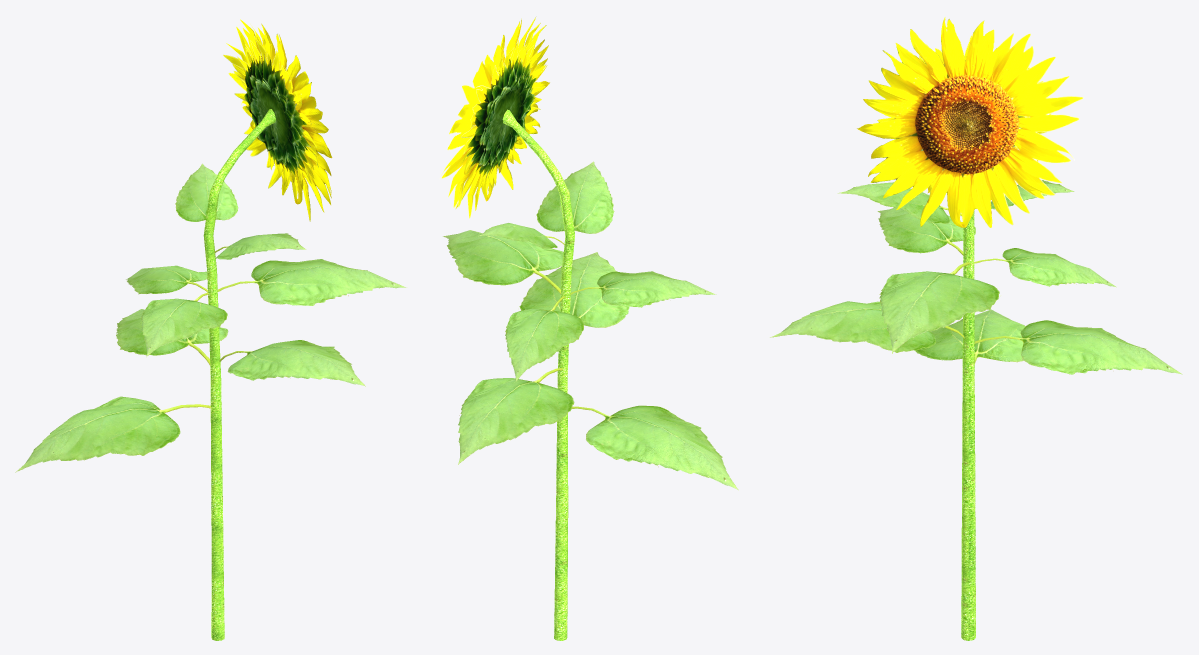
Rendered from sunflower.glb.
The picture shows the model from 3 angles, left to right: view 1: azimuth 30°, elevation 25°; view 2: azimuth 150°, elevation 25°; view 3: azimuth 270°, elevation 25°; orthographic projection. The views are drawn at different scales.
Parts seen in each view (by area): view 1: Object_2; view 2: Object_2; view 3: Object_2.
Part boxes in pixels (x1,y1,x2,y2): Object_2: (15, 19, 406, 640); Object_2: (439, 17, 738, 640); Object_2: (770, 17, 1182, 640).
Size of the model in its own units: 138 by 229 by 133.
Materials: 1 (1 with a texture image).
